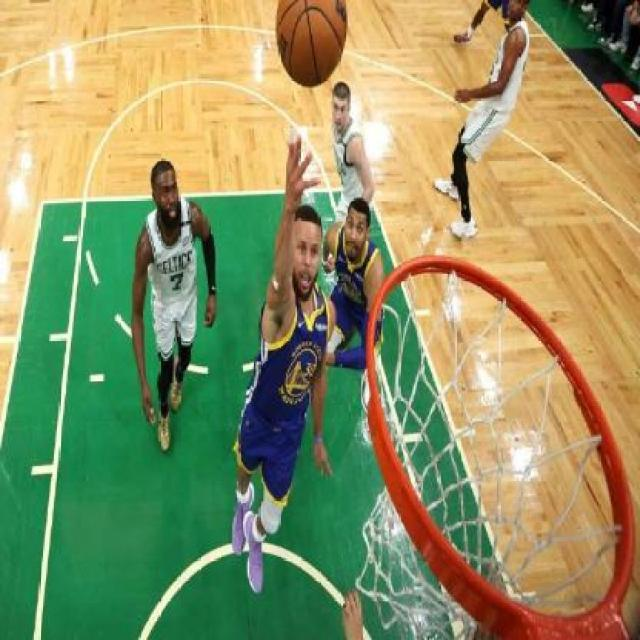Ball: (274, 2, 348, 89)
